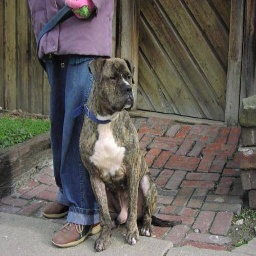dog: (69, 56, 163, 241)
